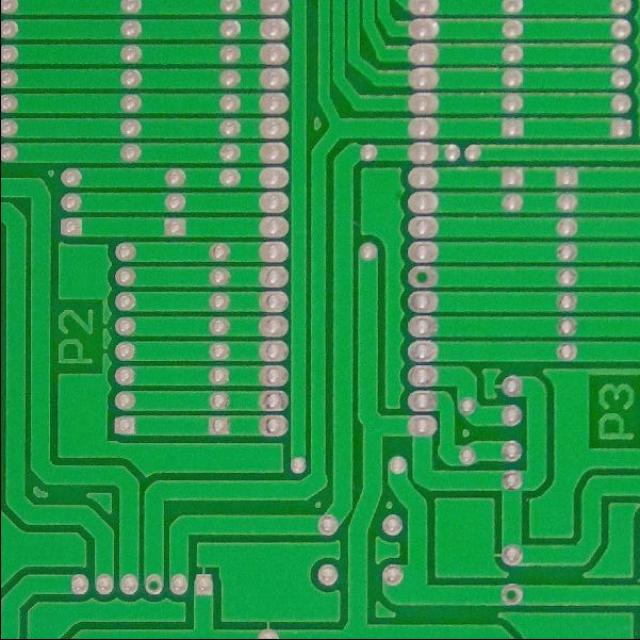missing_hole: (406, 265, 438, 292), (496, 584, 525, 604), (141, 575, 164, 597)
